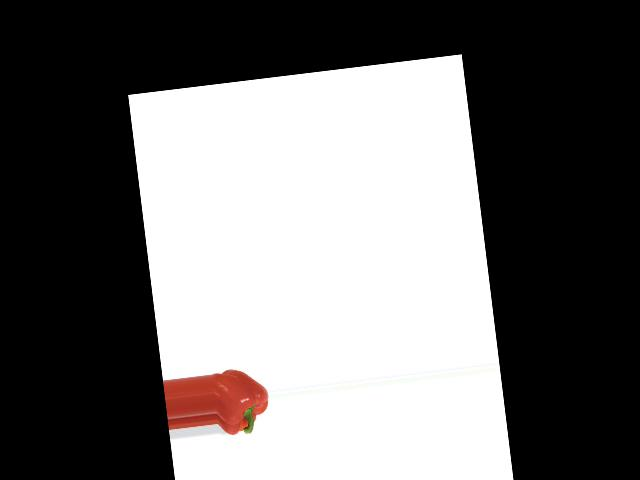bell_pepper: (210, 357, 273, 446)
